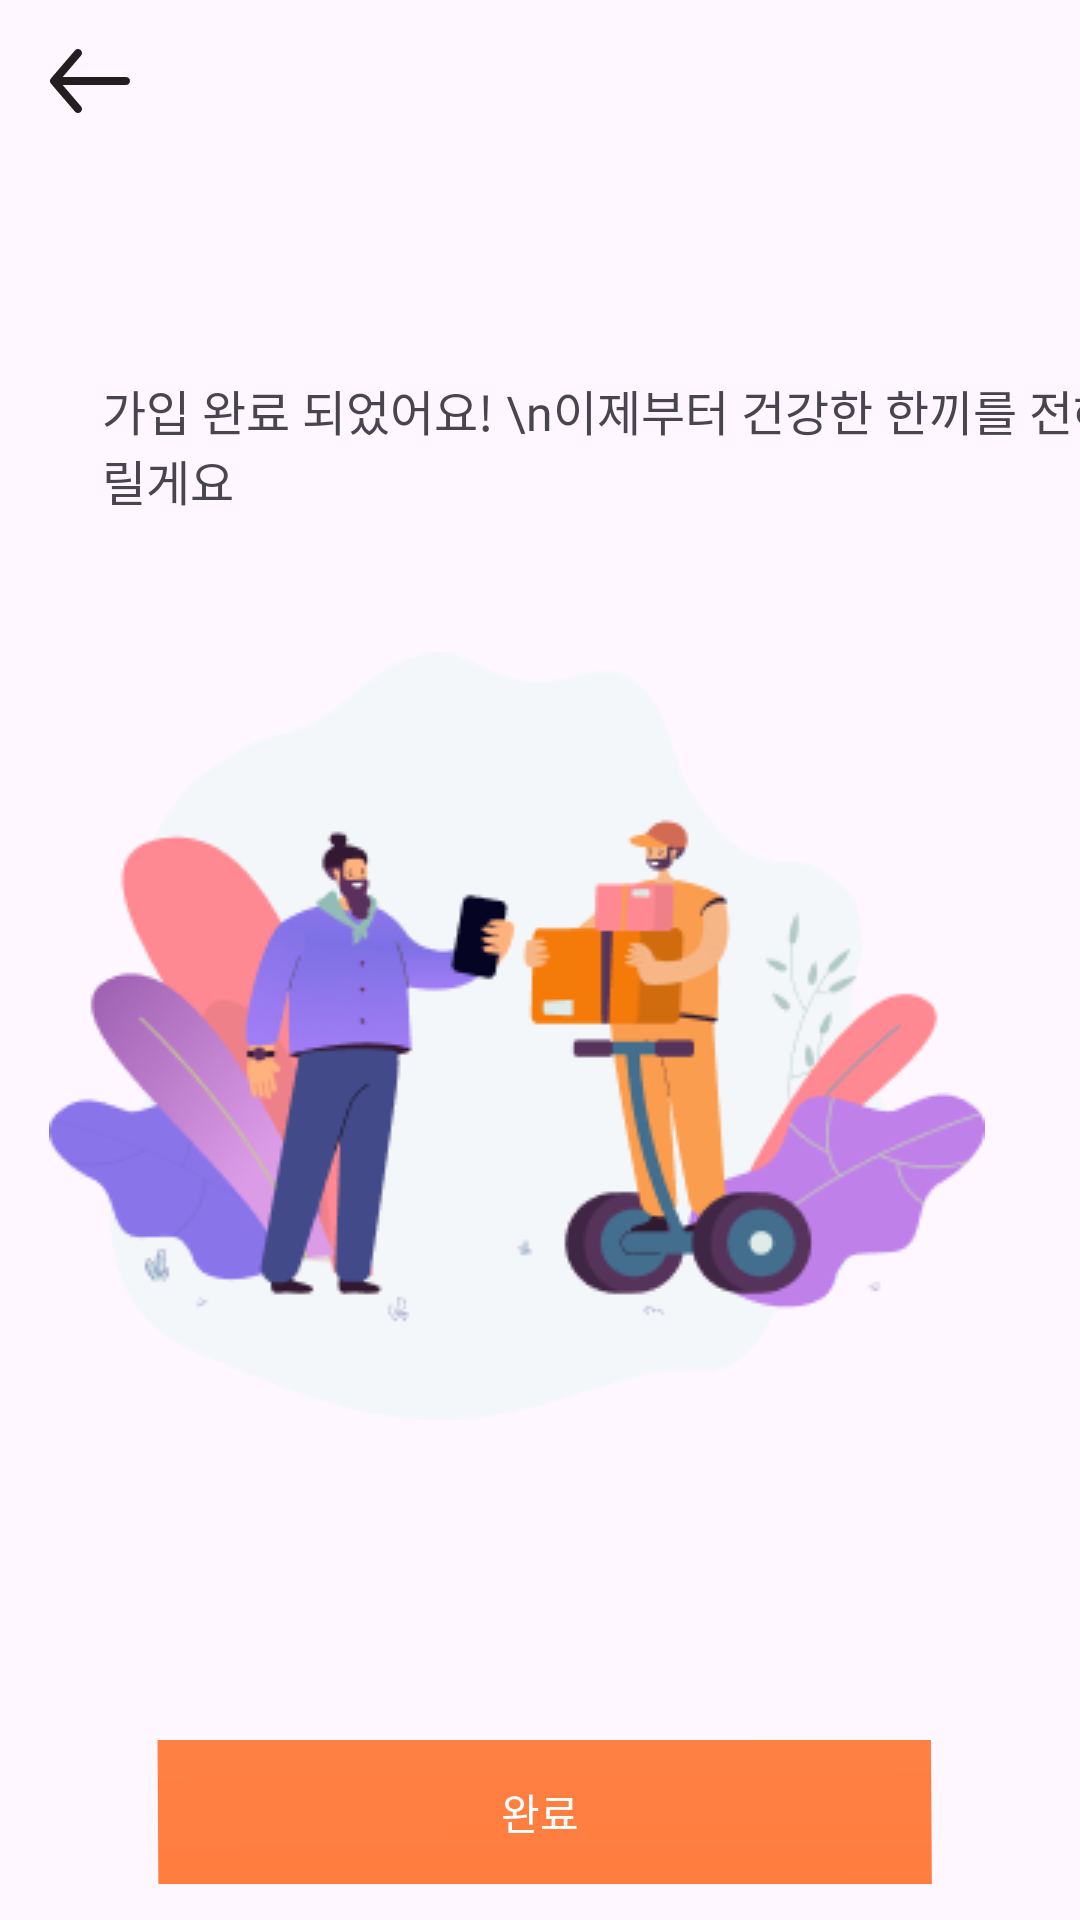

Named icons in this screenshot (1080*1920) and their bounding boxes, bbox=[x1, y1, x2, y2]:
left arrow: bbox=[50, 49, 130, 113]
